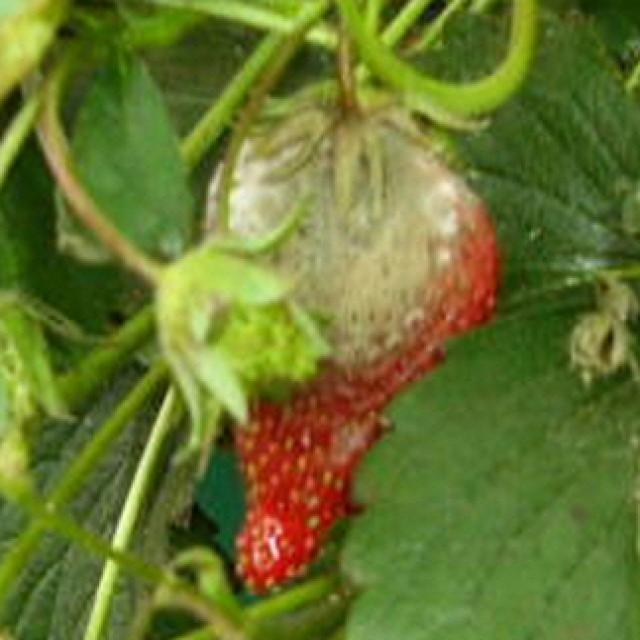Gray Mold: (206, 106, 491, 421)
